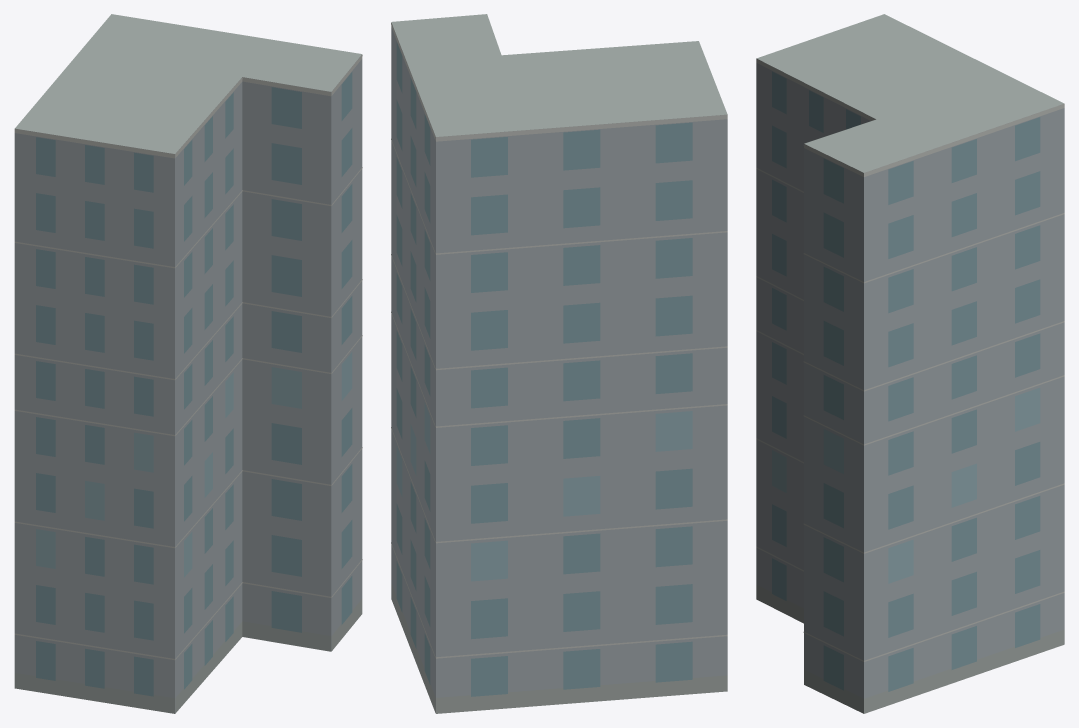
The model's file is survey-upis-32563830.glb.
The picture shows the model from 3 angles, left to right: view 1: azimuth 30°, elevation 25°; view 2: azimuth 150°, elevation 25°; view 3: azimuth 270°, elevation 25°; orthographic projection. The views are drawn at different scales.
Visible parts, largest first — view 1: survey-upis-32563830.tmp; view 2: survey-upis-32563830.tmp; view 3: survey-upis-32563830.tmp.
Boxes of the visible parts, x1=… form: survey-upis-32563830.tmp: x1=14, y1=14, x2=362, y2=713; survey-upis-32563830.tmp: x1=391, y1=14, x2=727, y2=713; survey-upis-32563830.tmp: x1=756, y1=14, x2=1064, y2=713.
Size of the model in its own units: 19.23 by 30.5 by 15.76.
